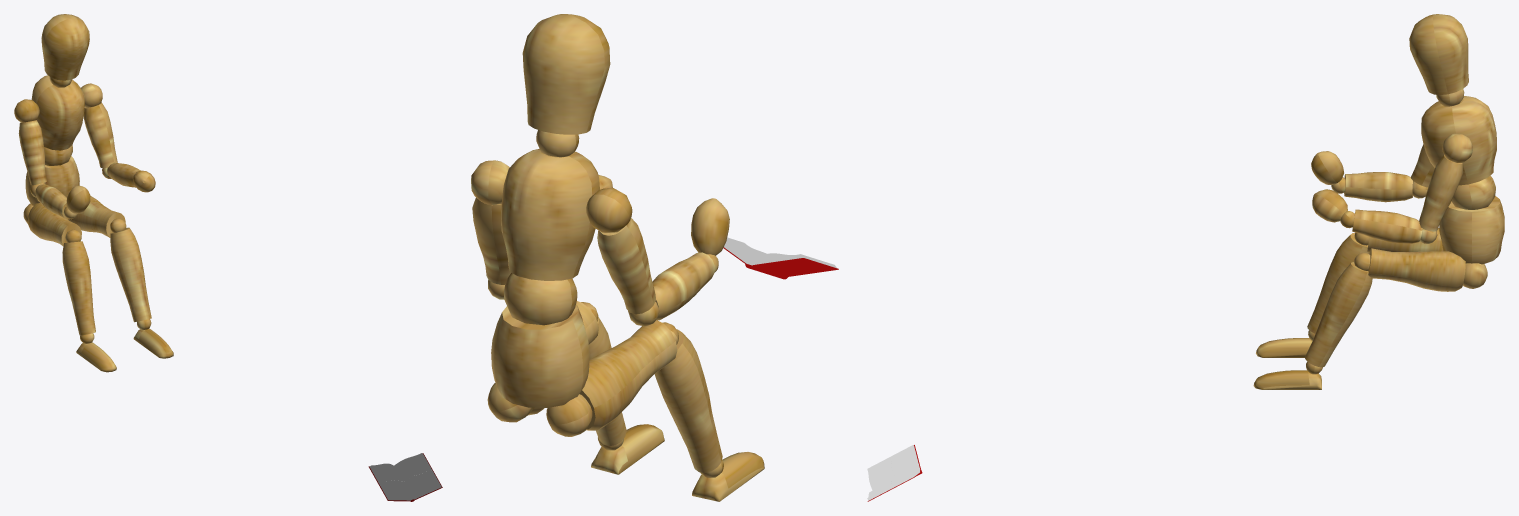
File: man_read.dae
3 renders of one model, left to right at view 1: azimuth 30°, elevation 25°; view 2: azimuth 150°, elevation 25°; view 3: azimuth 270°, elevation 25°, orthographic. The views are drawn at different scales.
Visible parts, largest first — view 1: フィギュアギュア, book; view 2: フィギュアギュア, book; view 3: フィギュアギュア, book.
Part boxes in pixels (x1=…): フィギュアギュア: x1=14, y1=14, x2=173, y2=372; book: x1=368, y1=453, x2=442, y2=501; フィギュアギュア: x1=471, y1=14, x2=764, y2=501; book: x1=723, y1=237, x2=838, y2=279; フィギュアギュア: x1=1253, y1=14, x2=1504, y2=389; book: x1=867, y1=445, x2=922, y2=501.
Size of the model in its own units: 0.3392 by 0.5987 by 0.8362.
8 materials, 2 textured.
